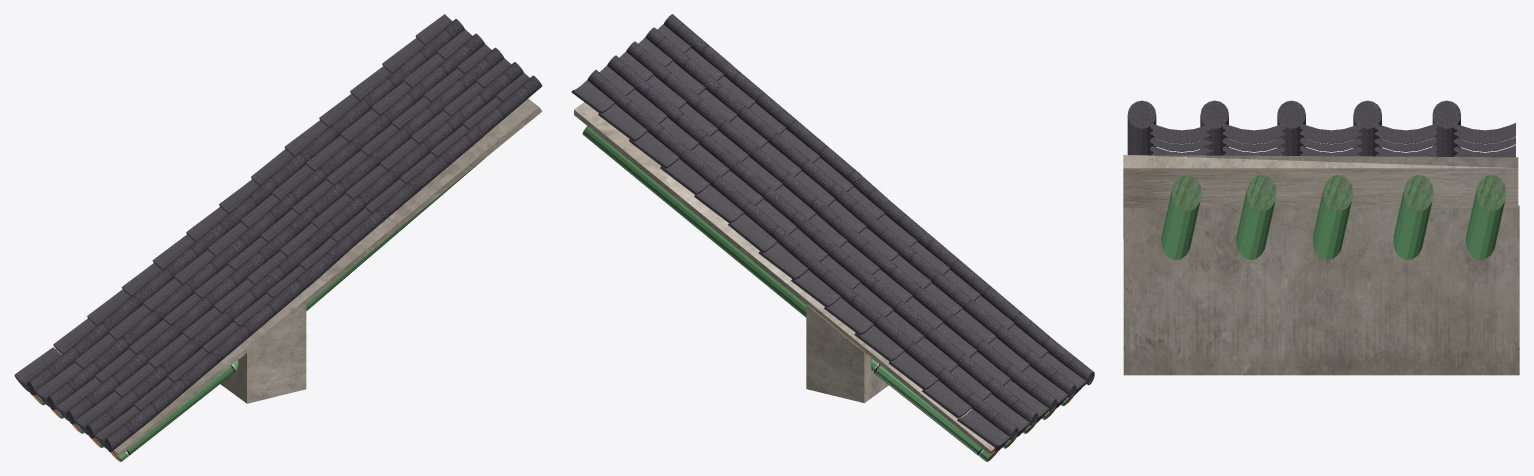
The model's file is SM_Roof_9.fbx.
3 views of the same model, side by side, from view 1: azimuth 30°, elevation 25°; view 2: azimuth 150°, elevation 25°; view 3: azimuth 270°, elevation 25° (orthographic). The views are drawn at different scales.
Visible parts, largest first — view 1: SM_Roof_9; view 2: SM_Roof_9; view 3: SM_Roof_9.
Part boxes in pixels (x1=…): SM_Roof_9: x1=14, y1=14, x2=542, y2=461; SM_Roof_9: x1=571, y1=14, x2=1094, y2=461; SM_Roof_9: x1=1123, y1=100, x2=1519, y2=375.
Size of the model in its own units: 527 by 211 by 337.
5 materials, 5 textured.
